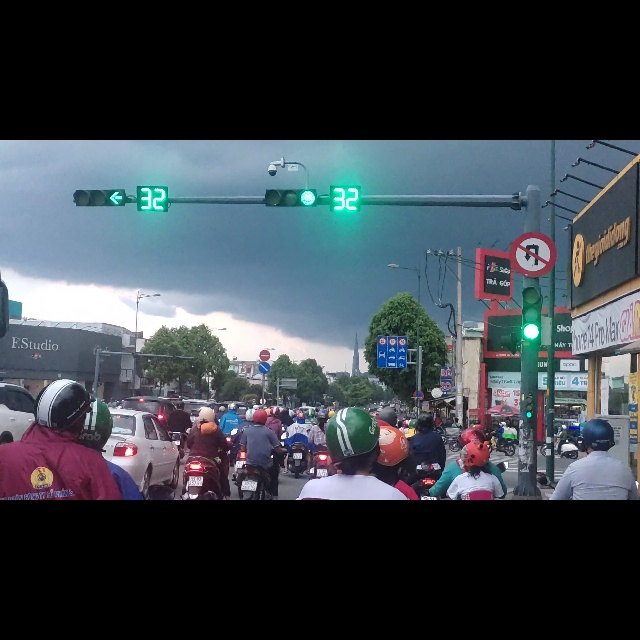bien_chi_dan: (510, 162, 557, 245), (377, 346, 408, 406), (258, 395, 270, 417), (259, 373, 271, 393)
